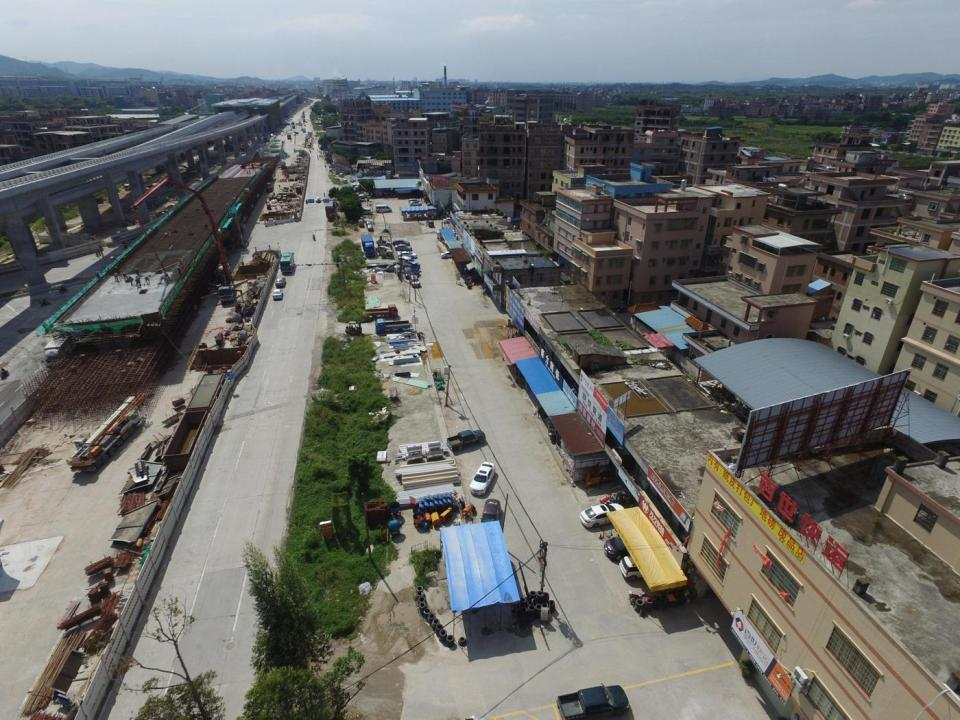bus: (280, 252, 295, 274)
car: (604, 535, 650, 561), (580, 502, 622, 528), (622, 554, 657, 582), (469, 461, 496, 496), (481, 499, 501, 531), (398, 251, 418, 259), (395, 244, 412, 251), (441, 251, 457, 258), (393, 239, 409, 246), (376, 246, 391, 252), (404, 268, 412, 279), (361, 207, 372, 215), (411, 276, 418, 288), (276, 277, 284, 287), (273, 290, 282, 298), (444, 217, 454, 223), (409, 201, 421, 206), (366, 220, 372, 227), (367, 224, 374, 230), (343, 179, 348, 184), (316, 197, 320, 203), (339, 174, 343, 178)
truck: (554, 683, 627, 720), (446, 431, 487, 451), (376, 318, 410, 333), (365, 304, 397, 318), (360, 234, 375, 256), (220, 280, 234, 302), (399, 259, 420, 271), (326, 202, 334, 220), (379, 250, 394, 259), (386, 264, 402, 272), (378, 241, 393, 249), (358, 219, 363, 227)
van: (375, 205, 392, 213), (426, 221, 434, 228), (408, 199, 418, 203)
